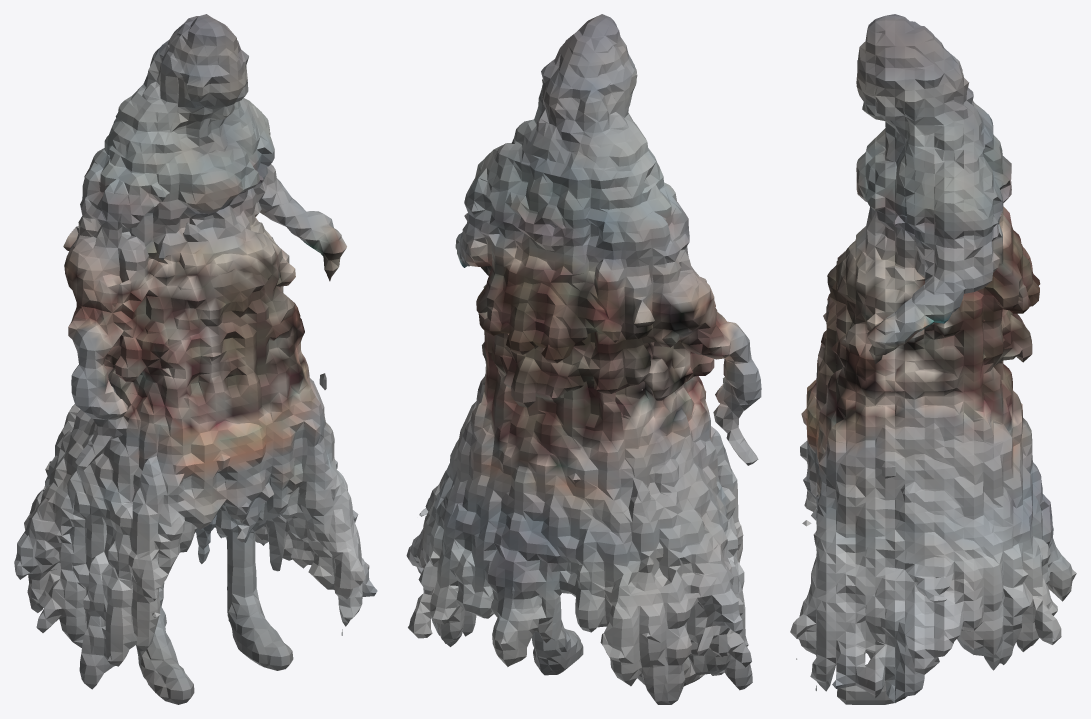
Rendered from ann-triposr-v1.glb.
3 renders of one model, left to right at view 1: azimuth 30°, elevation 25°; view 2: azimuth 150°, elevation 25°; view 3: azimuth 270°, elevation 25°, orthographic. The views are drawn at different scales.
Parts seen in each view (by area): view 1: world; view 2: world; view 3: world.
Boxes of the visible parts, <box> form: world: <box>14,14,377,704</box>; world: <box>406,14,761,704</box>; world: <box>790,14,1076,704</box>.
Size of the model in its own units: 0.9437 by 1.78 by 0.7007.
